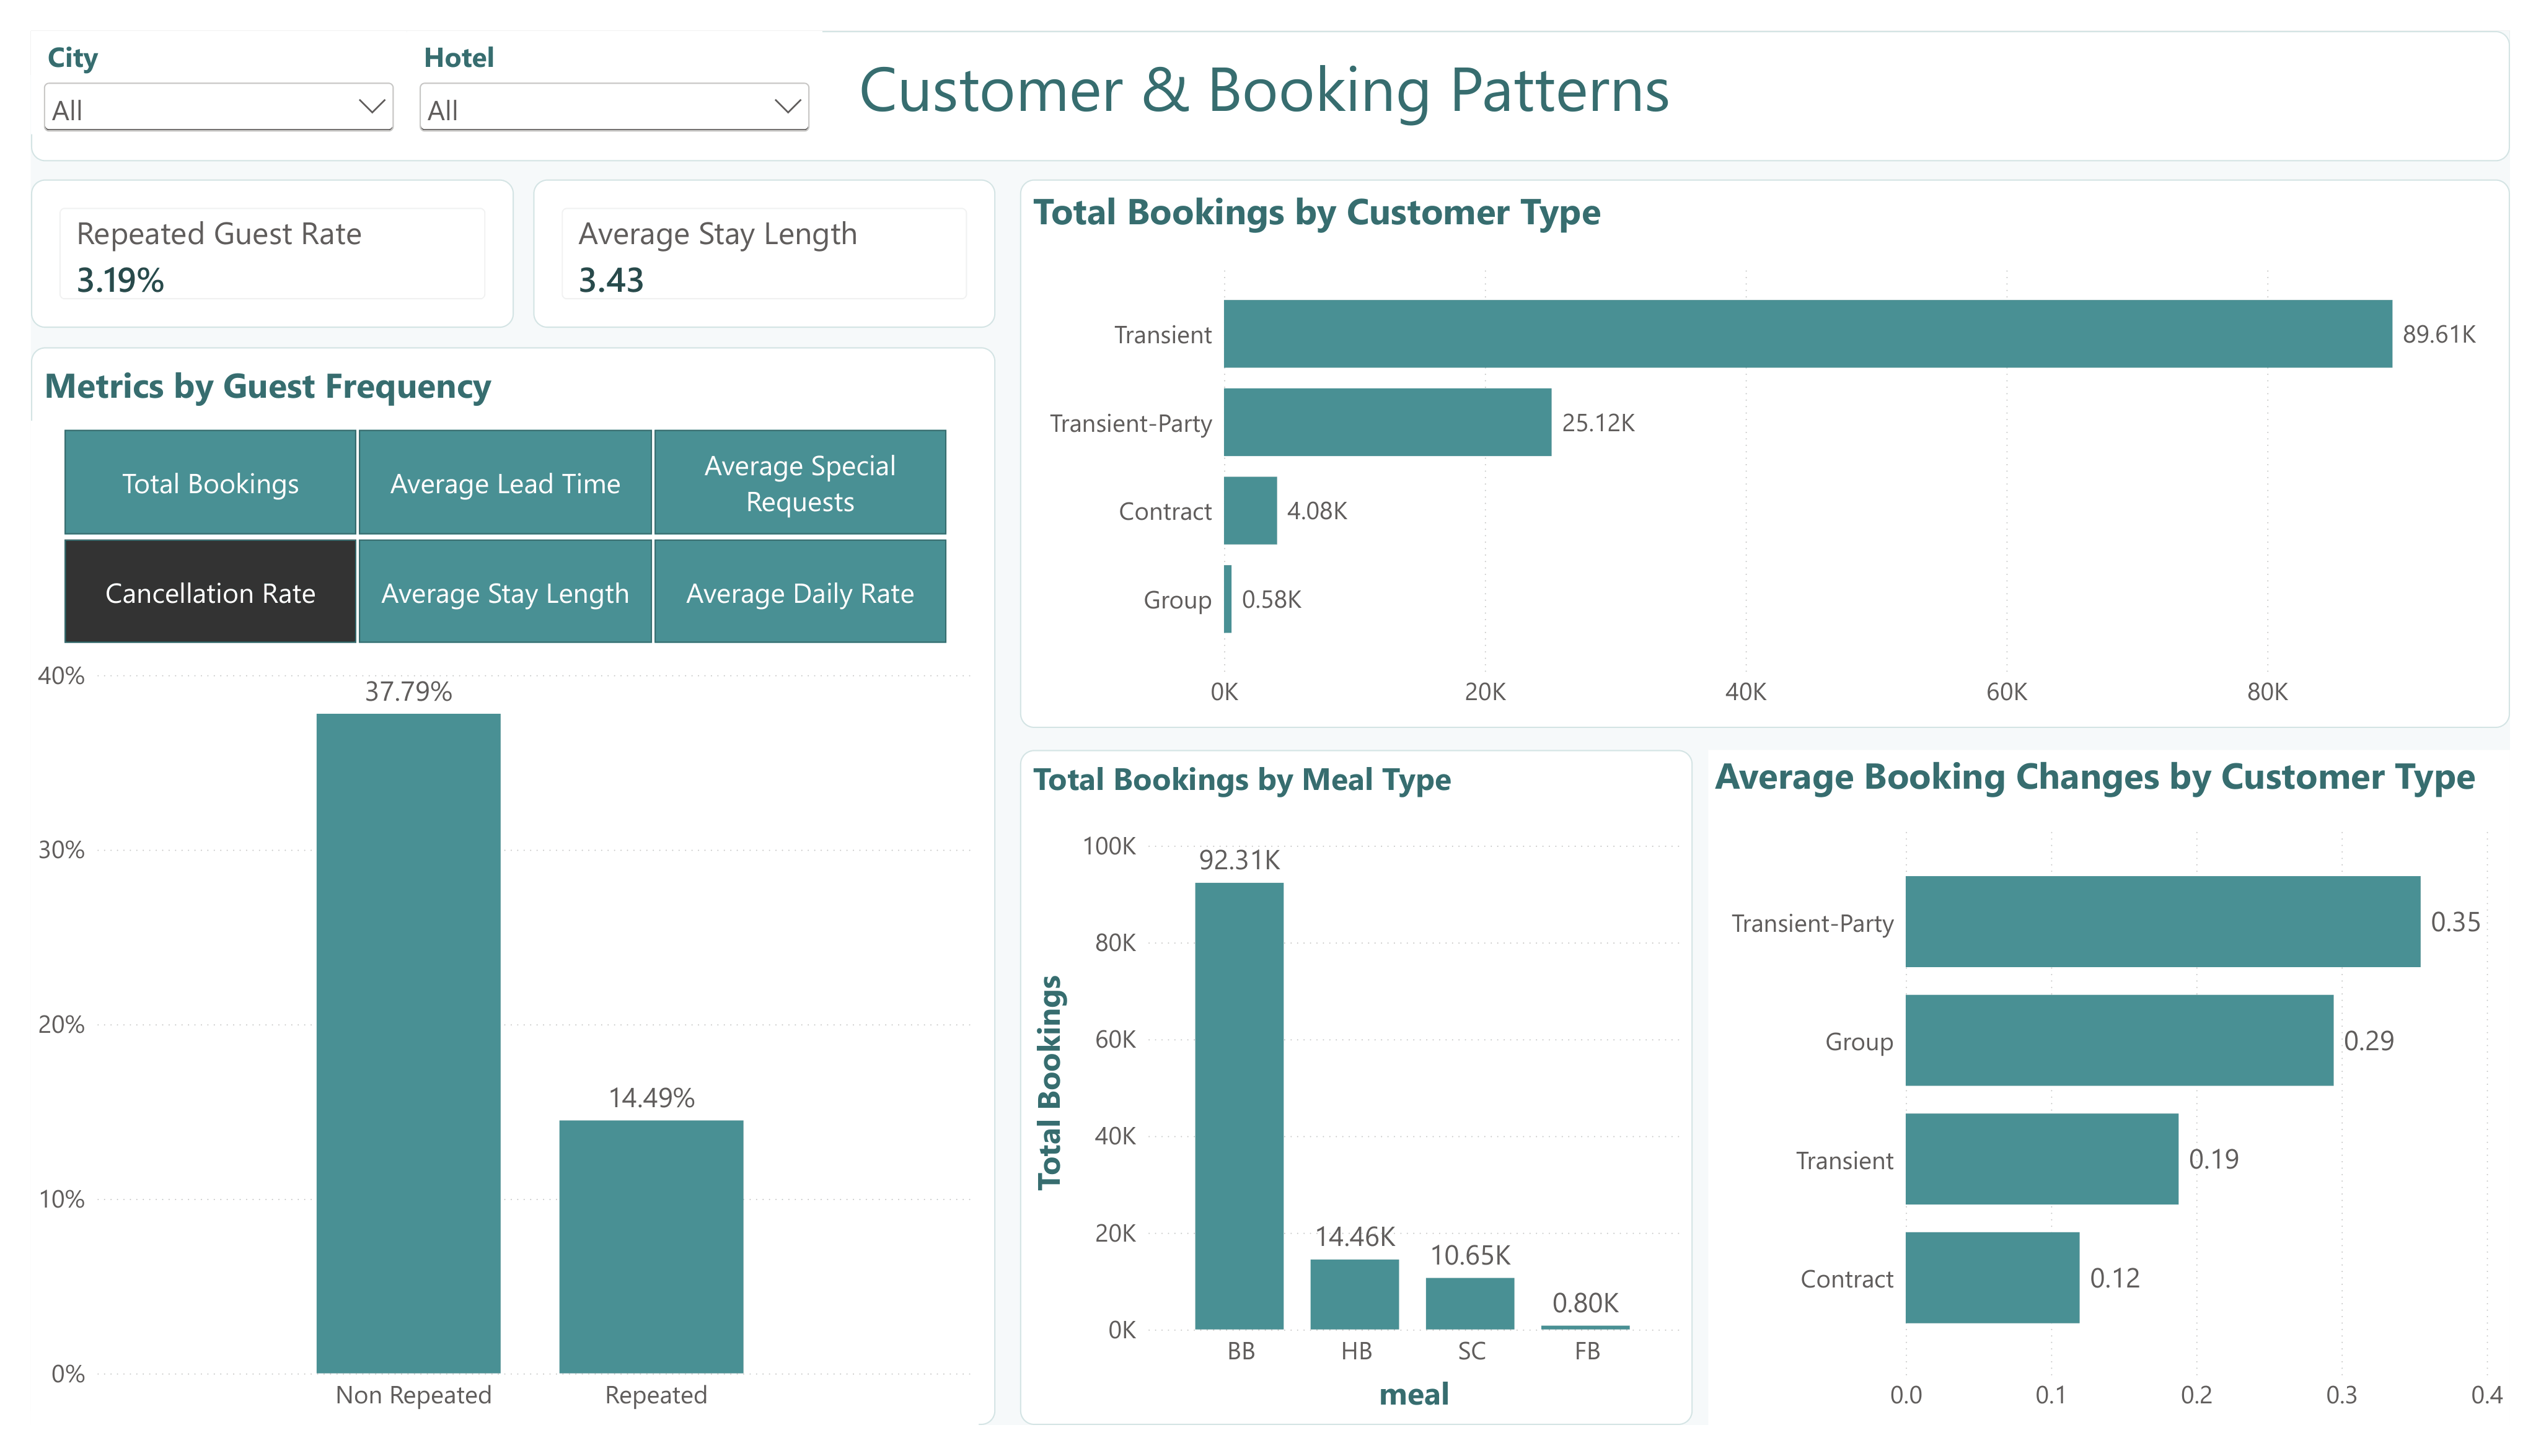

Layout of this report page (visuals, bound fields, positions):
{"tool":"powerbi","page":{"name":"Customer & Booking Patterns","canvas":[1920,1080],"ordinal":2},"visuals":[{"type":"textbox","box":[0,245.1,747.4,834.9],"z":0,"group":"g1"},{"type":"textbox","box":[0,0,1920,101.4],"z":1000},{"type":"slicer","fields":{"Values":["hotel bookings 2024.hotel"]},"box":[290.7,0,322,80.5],"z":2000},{"type":"slicer","fields":{"Values":["hotel bookings 2024.city"]},"box":[0,0,290.7,80.5],"z":3000},{"type":"clusteredBarChart","title":"Total Bookings by Customer Type","fields":{"Category":["hotel bookings 2024.customer_type"],"Y":["_Mesures.Total Bookings"]},"box":[766.3,114.9,1153.7,425.1],"z":4000},{"type":"columnChart","title":"Breakfast Booking Rate by Guest Frequency","fields":{"Category":["hotel bookings 2024.Guest_frecuency"],"Y":["_Mesures.Total Bookings"]},"box":[0,473.7,733.7,606.3],"z":5000,"group":"g1"},{"type":"clusteredBarChart","title":"Average Booking Changes by Customer Type","fields":{"Category":["hotel bookings 2024.customer_type"],"Y":["Avg(hotel bookings 2024.booking_changes)"]},"box":[1299.4,557.1,620.6,522.9],"z":5000},{"type":"clusteredColumnChart","title":"Total Bookings by Meal Type","fields":{"Category":["hotel bookings 2024.meal"],"Y":["_Mesures.Total Bookings"]},"box":[766.3,557.1,521.1,522.9],"z":6000},{"type":"cardVisual","fields":{"Data":["_Mesures.Repeated Guest Rate"]},"box":[0,114.9,373.7,114.9],"z":7000},{"type":"cardVisual","fields":{"Data":["_Mesures.Average Stay Length"]},"box":[389.1,114.9,358.3,114.9],"z":8000},{"type":"slicer","fields":{"Values":["Guest Behaviour Metric.Parameter"]},"box":[0,301.7,733.4,179.5],"z":9000,"group":"g1"},{"type":"group","id":"g1","title":"Group 1","box":[0,245.1,747.4,834.9],"z":9001}]}

Visuals, with their boxes on the page's 1920x1080 design canvas (x1, y1, x2, y2). These are canvas units, not pixel positions in the 2541x1456 screenshot, which may show the page scaled, cropped or inside an application window:
textbox: Rect(0, 245, 747, 1080)
textbox: Rect(0, 0, 1920, 101)
slicer - hotel bookings 2024.hotel: Rect(291, 0, 613, 80)
slicer - hotel bookings 2024.city: Rect(0, 0, 291, 80)
"Total Bookings by Customer Type" clusteredBarChart: Rect(766, 115, 1920, 540)
"Breakfast Booking Rate by Guest Frequency" columnChart: Rect(0, 474, 734, 1080)
"Average Booking Changes by Customer Type" clusteredBarChart: Rect(1299, 557, 1920, 1080)
"Total Bookings by Meal Type" clusteredColumnChart: Rect(766, 557, 1287, 1080)
cardVisual - _Mesures.Repeated Guest Rate: Rect(0, 115, 374, 230)
cardVisual - _Mesures.Average Stay Length: Rect(389, 115, 747, 230)
slicer - Guest Behaviour Metric.Parameter: Rect(0, 302, 733, 481)
"Group 1" group: Rect(0, 245, 747, 1080)
